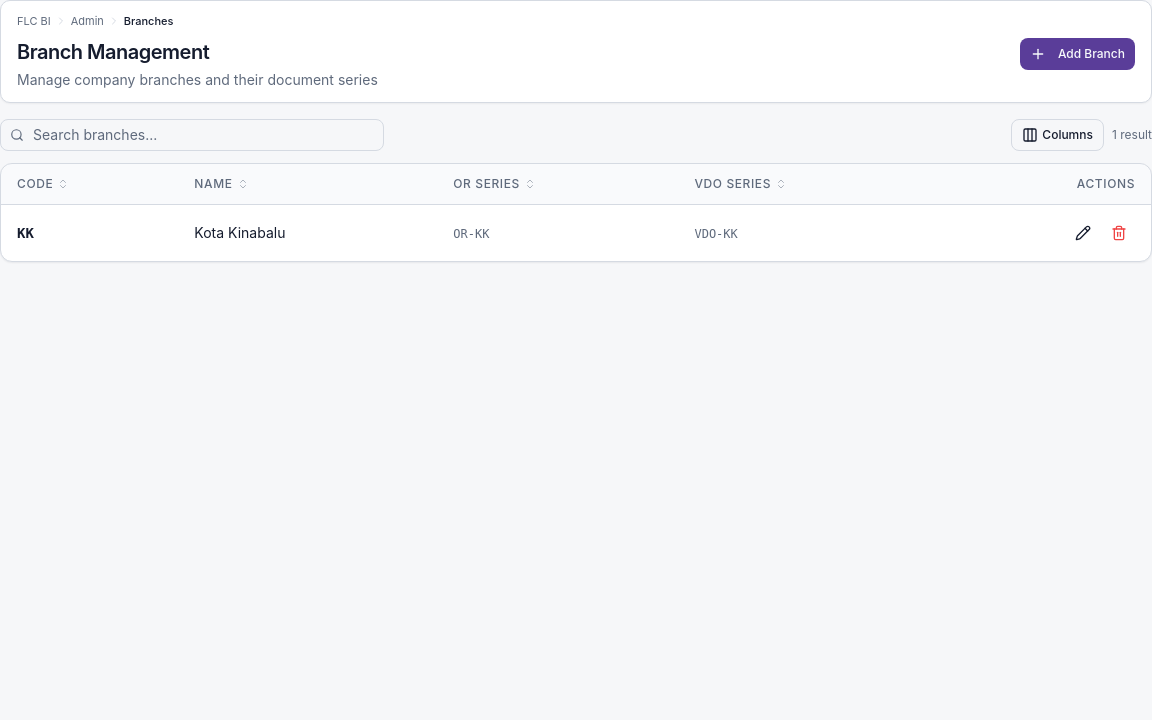
it: BranchManagement › renders inline validation messages for required fields
The width and height of the screenshot is (1152, 720).
Click the button "Add Branch" at point(1077, 54), box [1020, 38, 1135, 70]
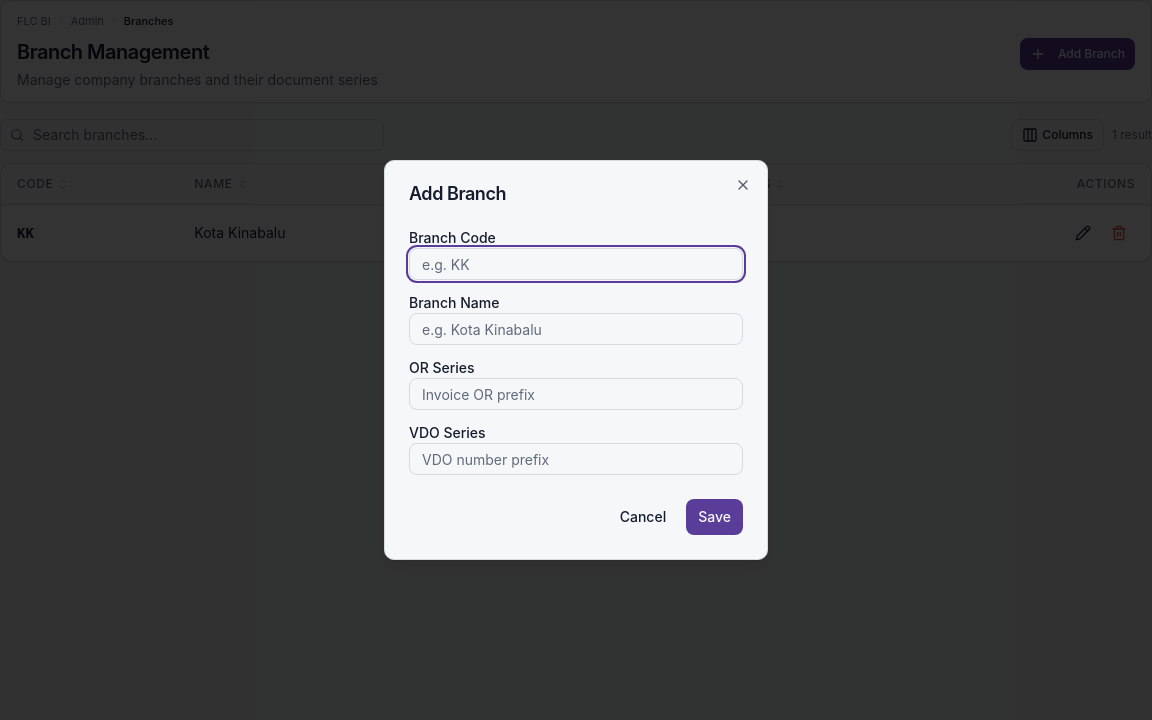
Click the button "Save" at point(715, 517), box [686, 499, 743, 535]
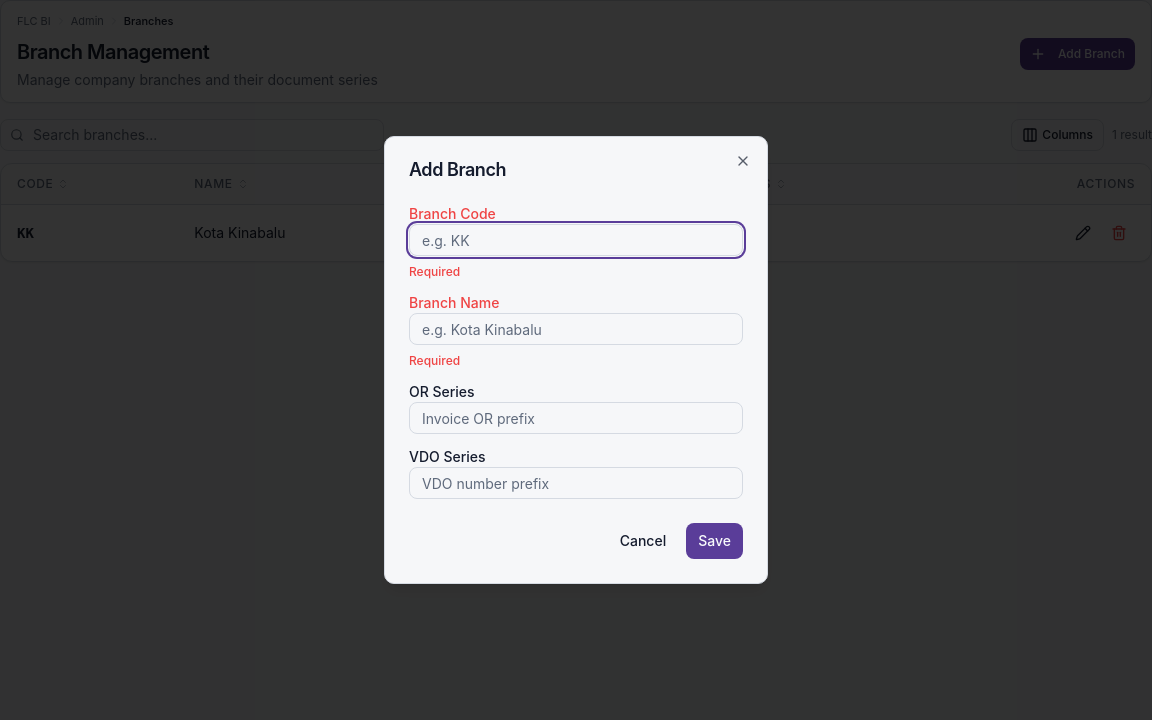
Result: the text "Required" is shown 2 times at [409, 264, 460, 279]; [409, 353, 460, 368]
